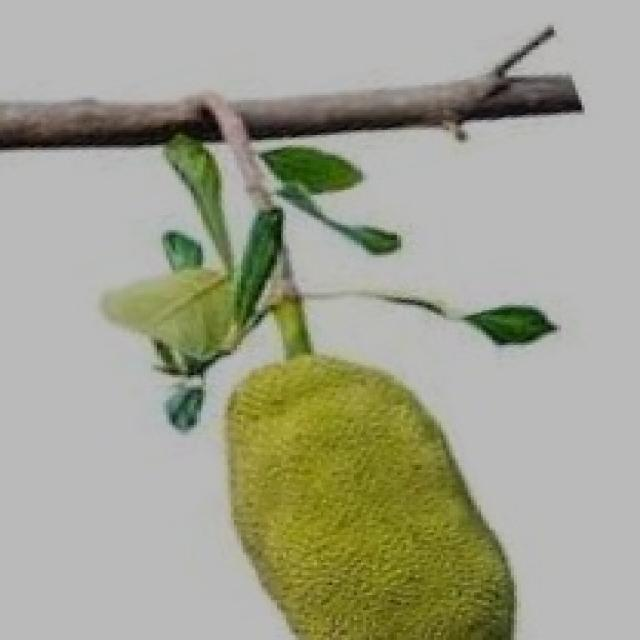Fruit: (200, 335, 551, 640)
